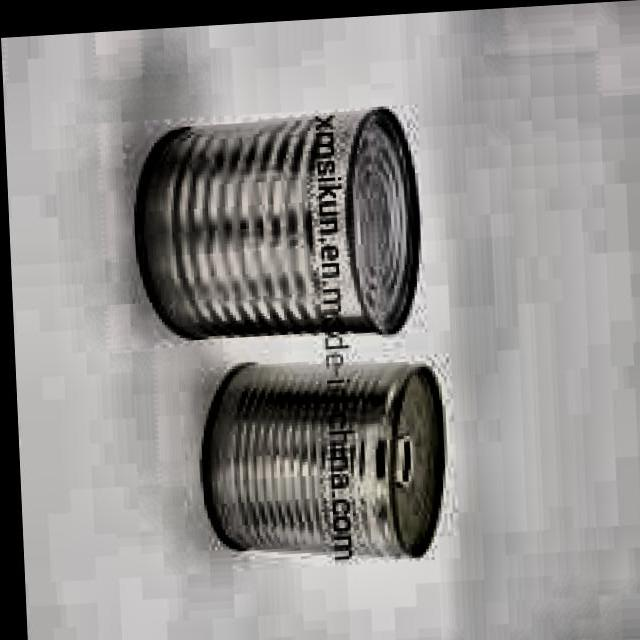litter: (122, 98, 432, 350), (185, 345, 452, 573)
